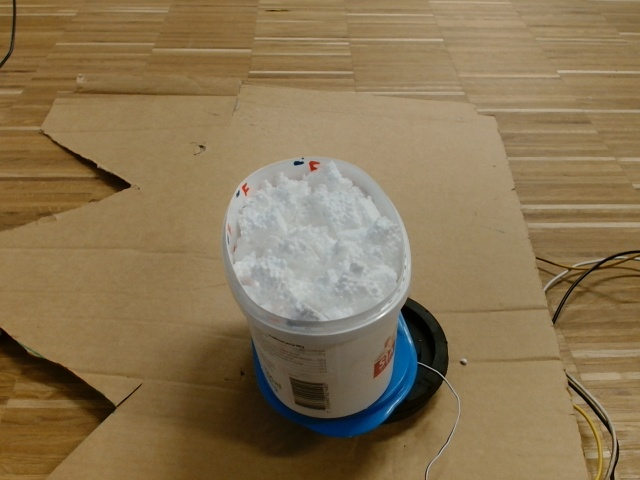Big_full: (224, 153, 413, 335)
